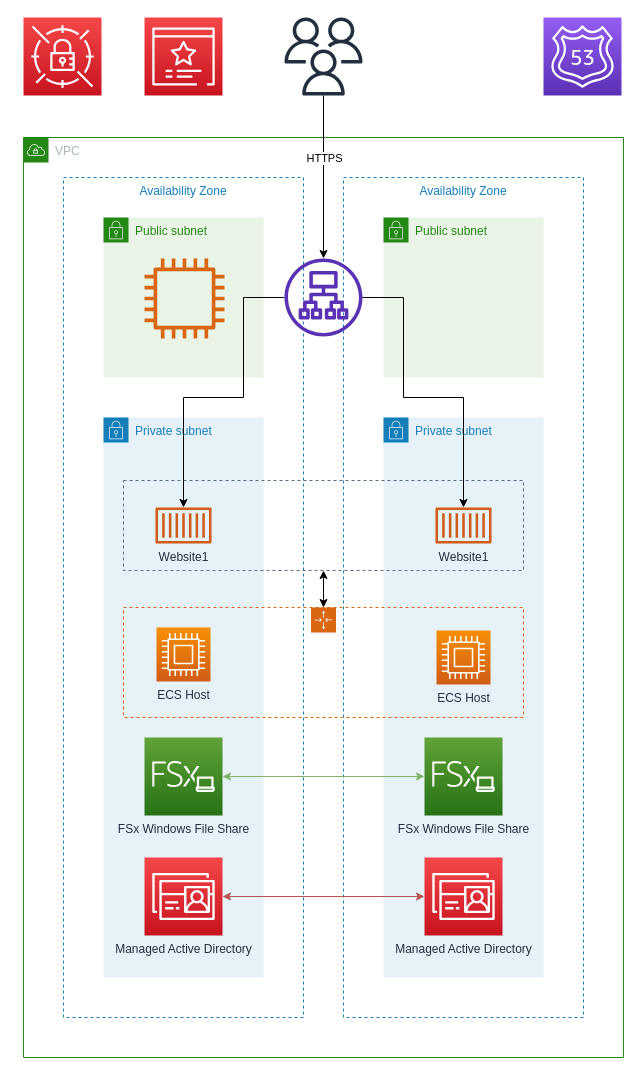
Image size: 641x1075. Some labels were removed from this diagram. The shapes that lost their labels are listed below. From the top down, each one's box as (x1, y1, x2, y2) in pixels, then its label:
(22, 16, 102, 96): Secrets Manager
(144, 16, 222, 96): Certificate Manager
(542, 16, 622, 96): R53
(144, 258, 224, 338): Bastion
(284, 258, 362, 336): ALB
(122, 480, 524, 570): ECS Service
(122, 606, 524, 718): Auto Scaling group
